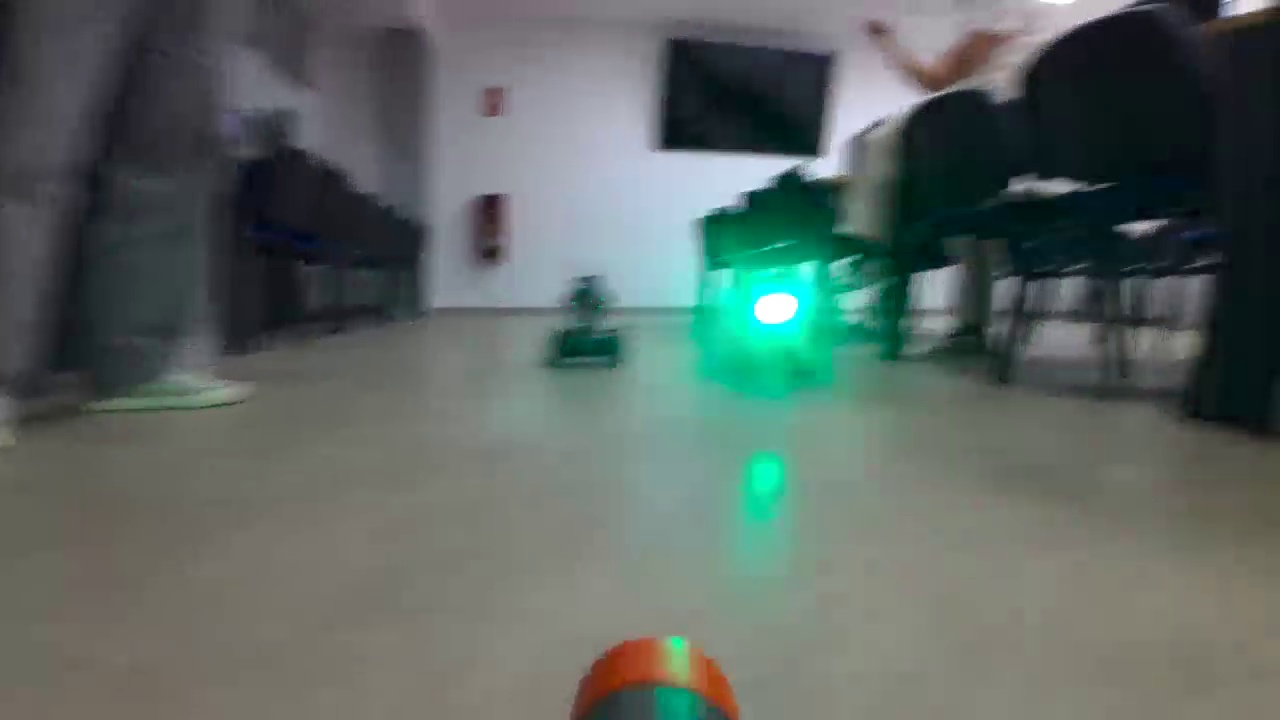robot: (700, 245, 840, 360), (545, 288, 625, 368)
